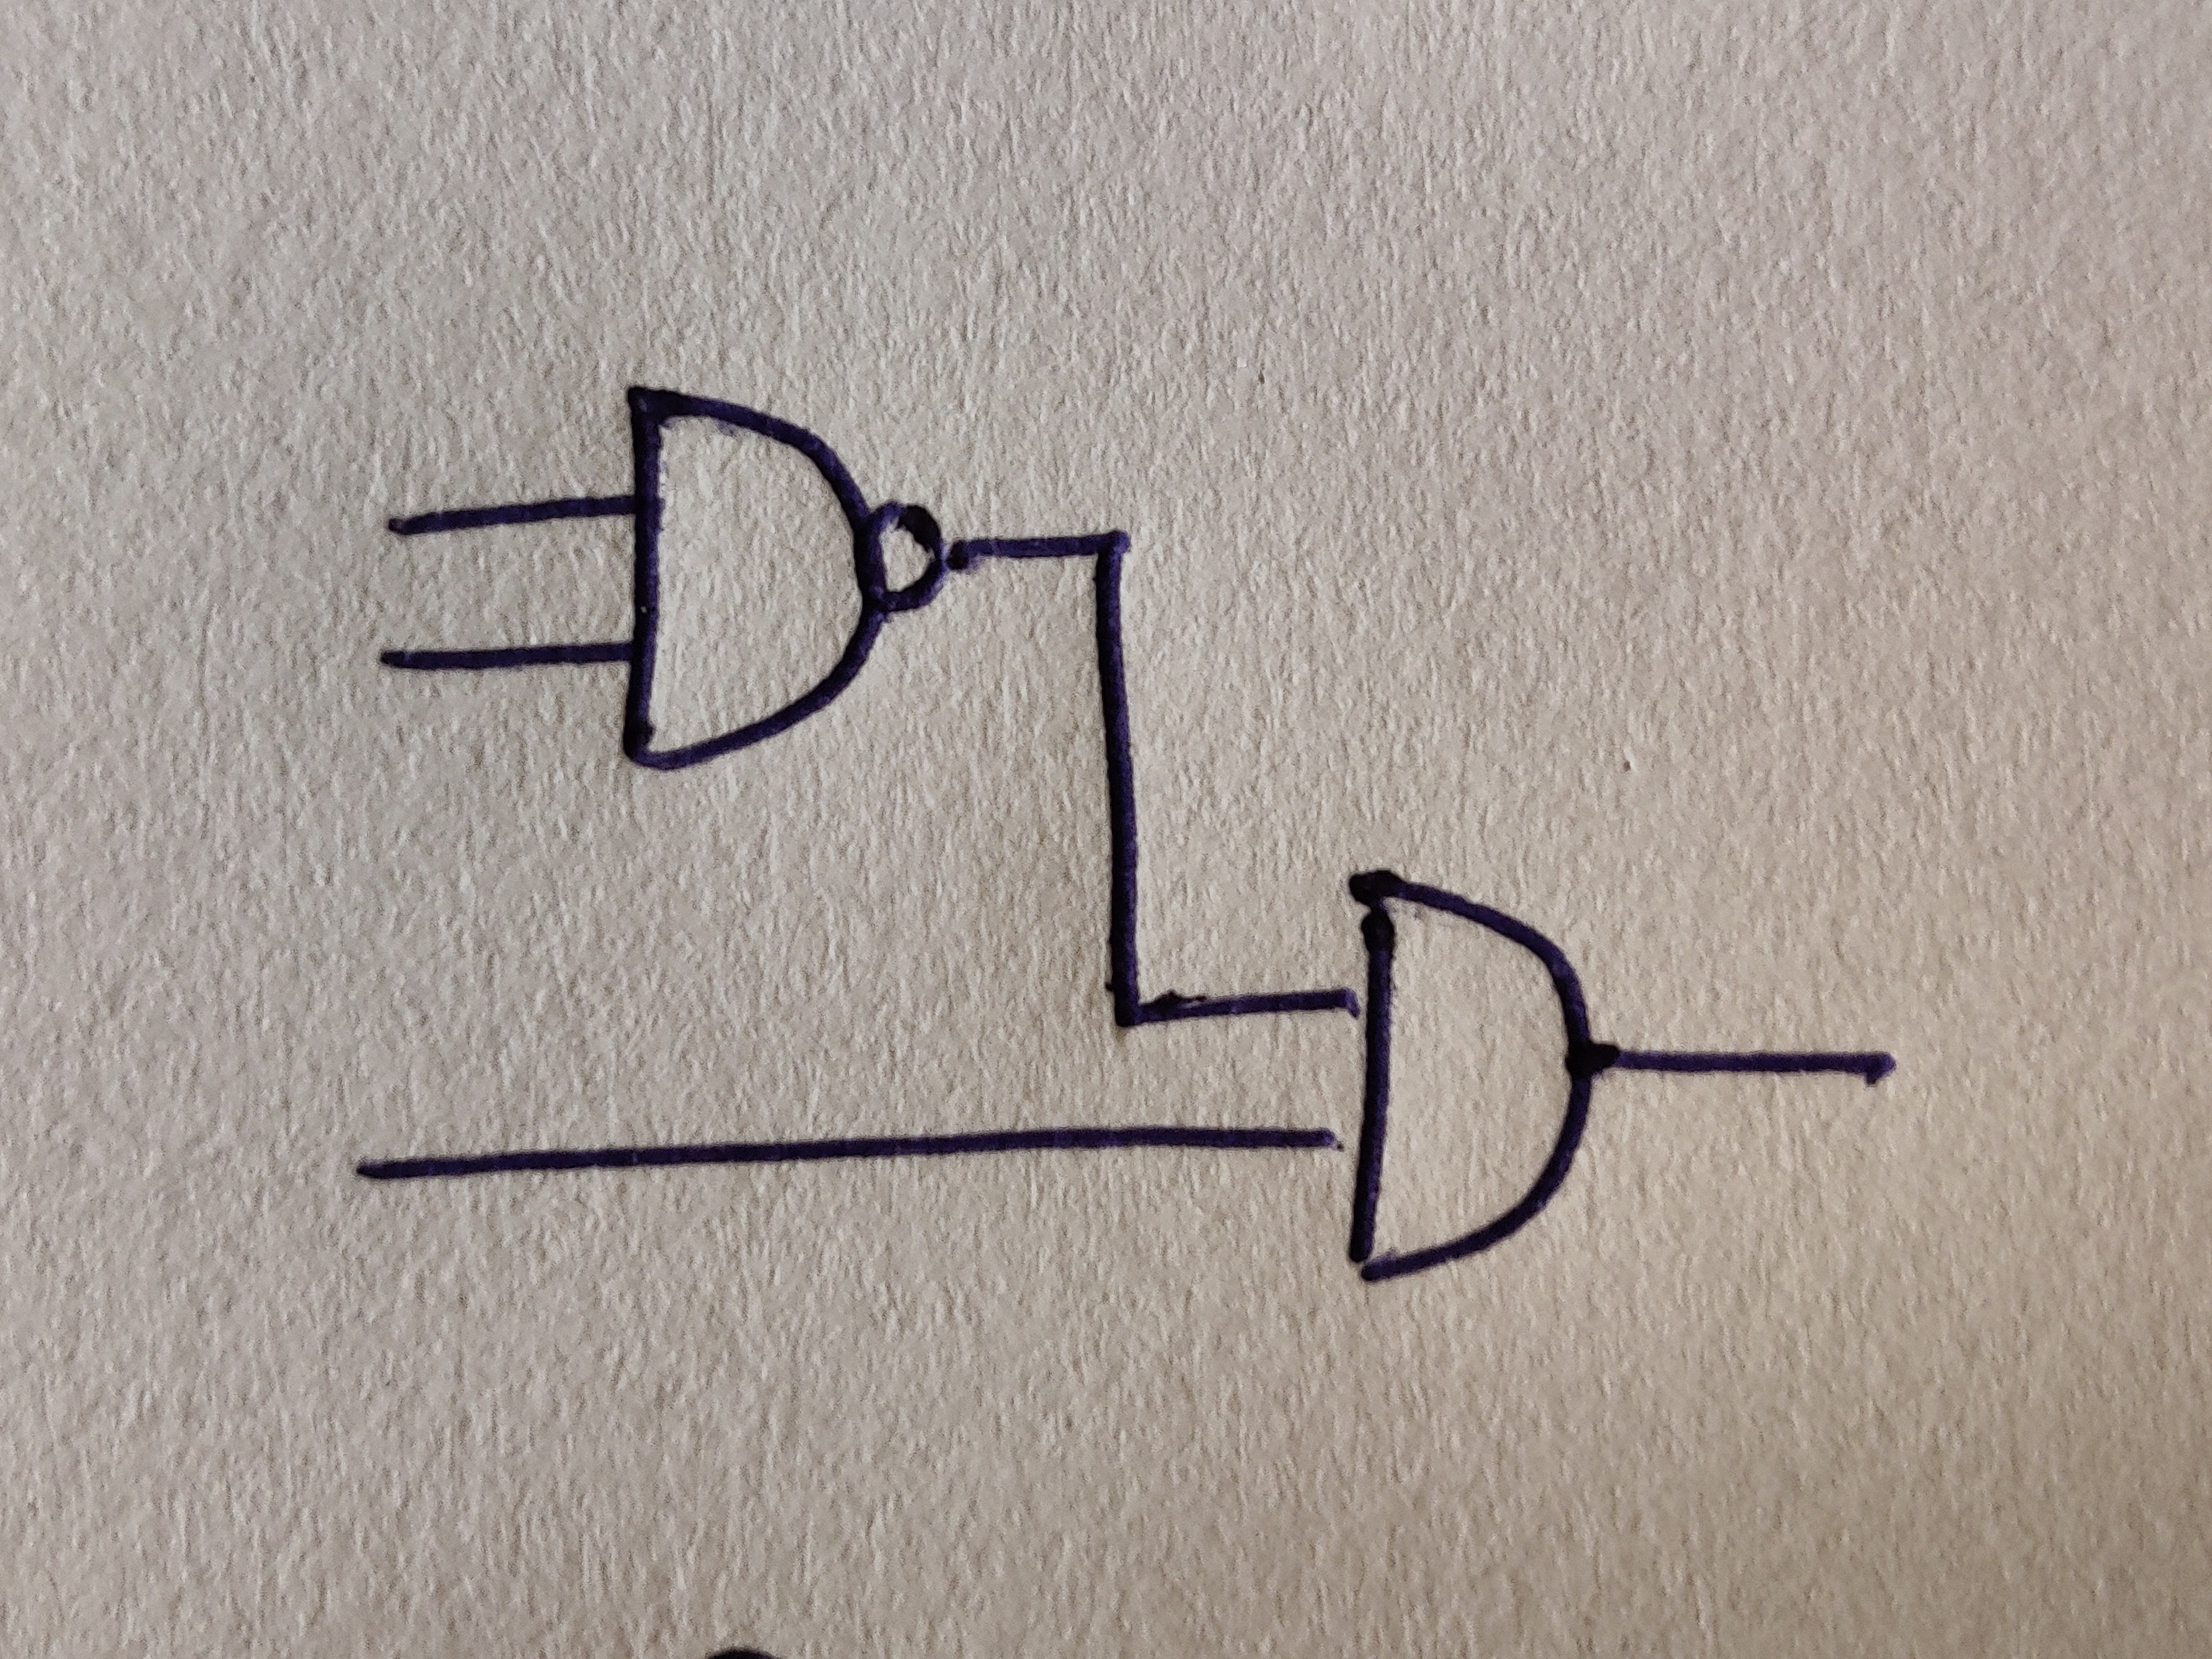and: (1348, 868, 1592, 1284), (622, 383, 874, 770)
not: (871, 500, 946, 615)
